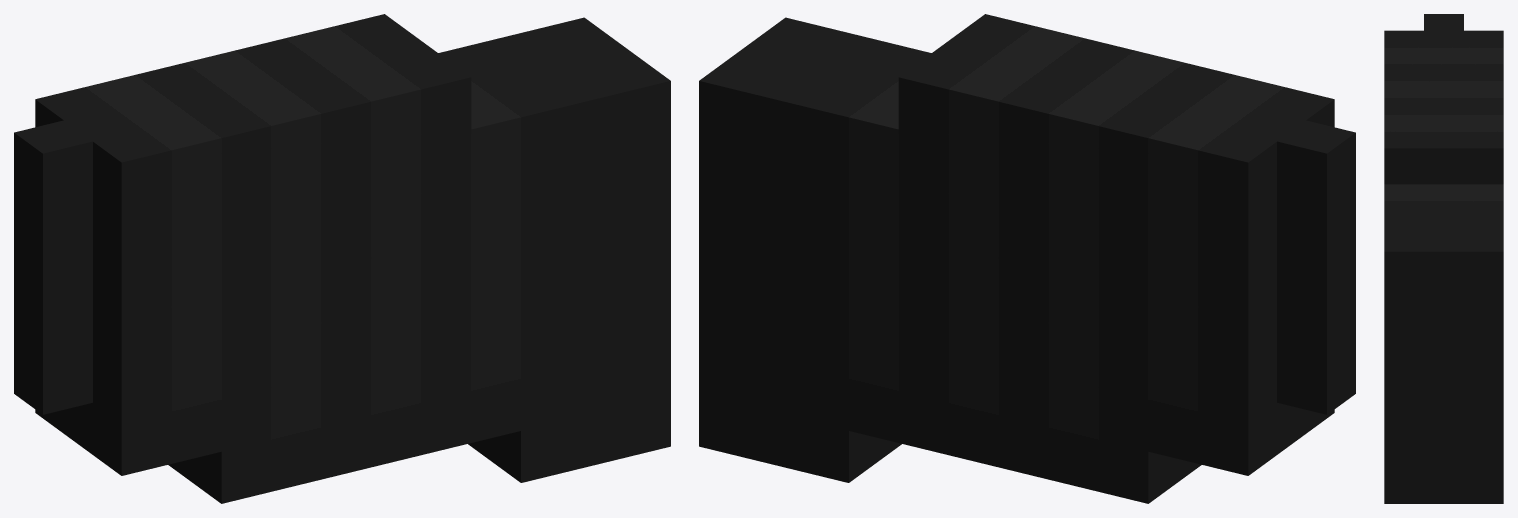
File: MagG43.fbx
The picture shows the model from 3 angles, left to right: view 1: azimuth 30°, elevation 25°; view 2: azimuth 150°, elevation 25°; view 3: azimuth 270°, elevation 25°; orthographic projection. The views are drawn at different scales.
Visible parts, largest first — view 1: MagG43.001; view 2: MagG43.001; view 3: MagG43.001.
Part boxes in pixels (x1,y1,x2,y2): MagG43.001: [14, 14, 670, 503]; MagG43.001: [699, 14, 1355, 503]; MagG43.001: [1384, 14, 1503, 503].
Bounding box in the file's own units: 1.2 × 0.8 × 0.3.
1 material, 1 textured.
